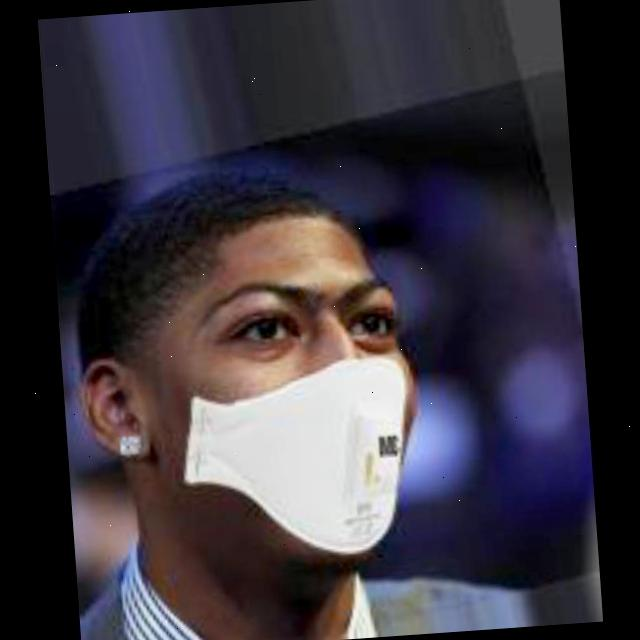suspicion: (59, 161, 432, 586)
